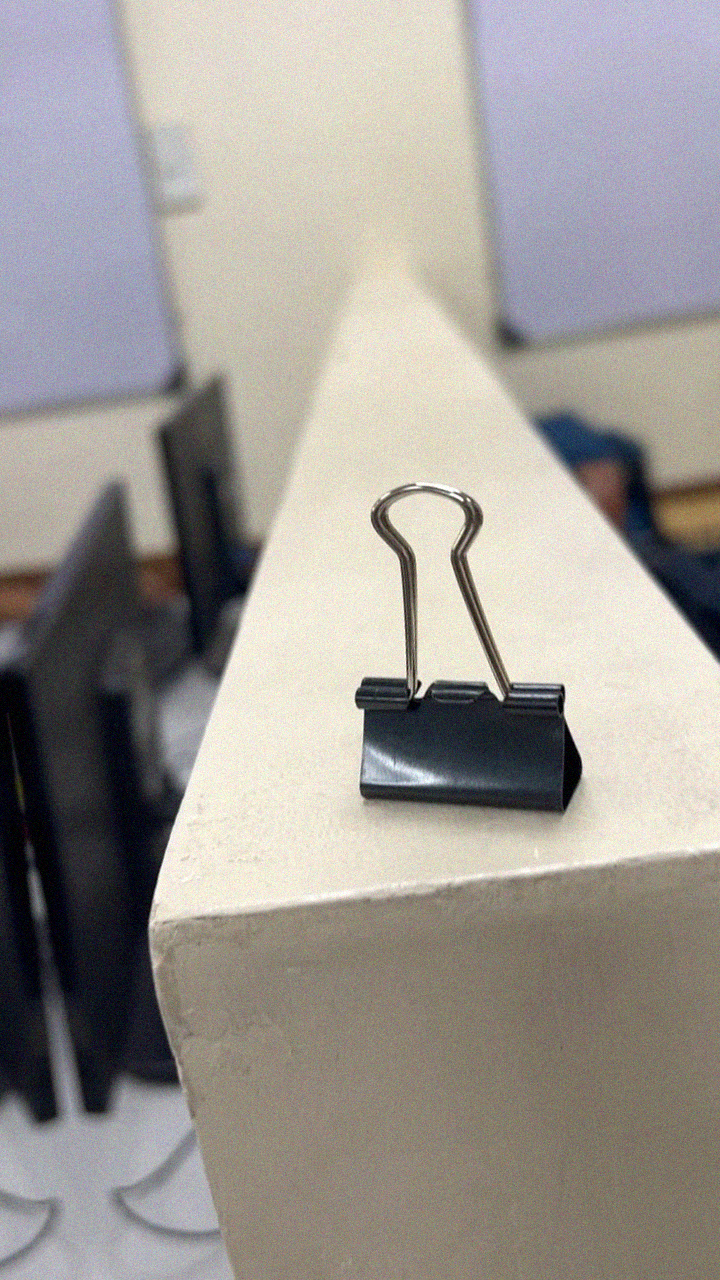kep_giay: (309, 458, 595, 840)
